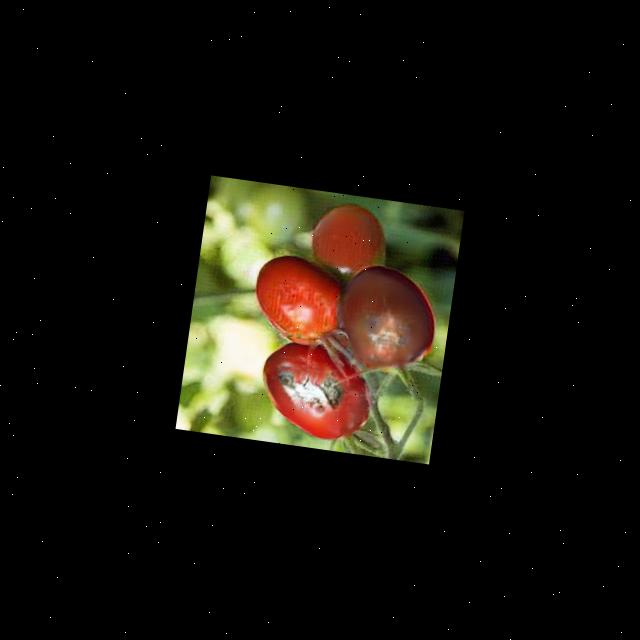tomato: (255, 339, 378, 446), (332, 262, 442, 378), (250, 252, 348, 344)
